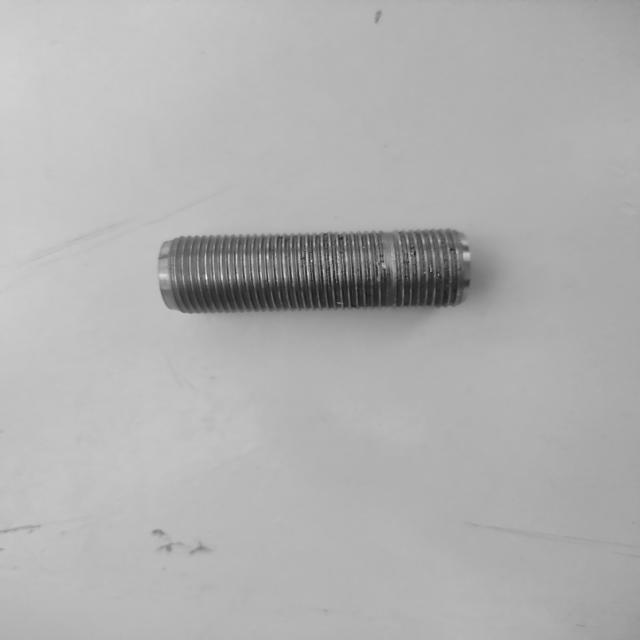Broken: (155, 227, 483, 314)
